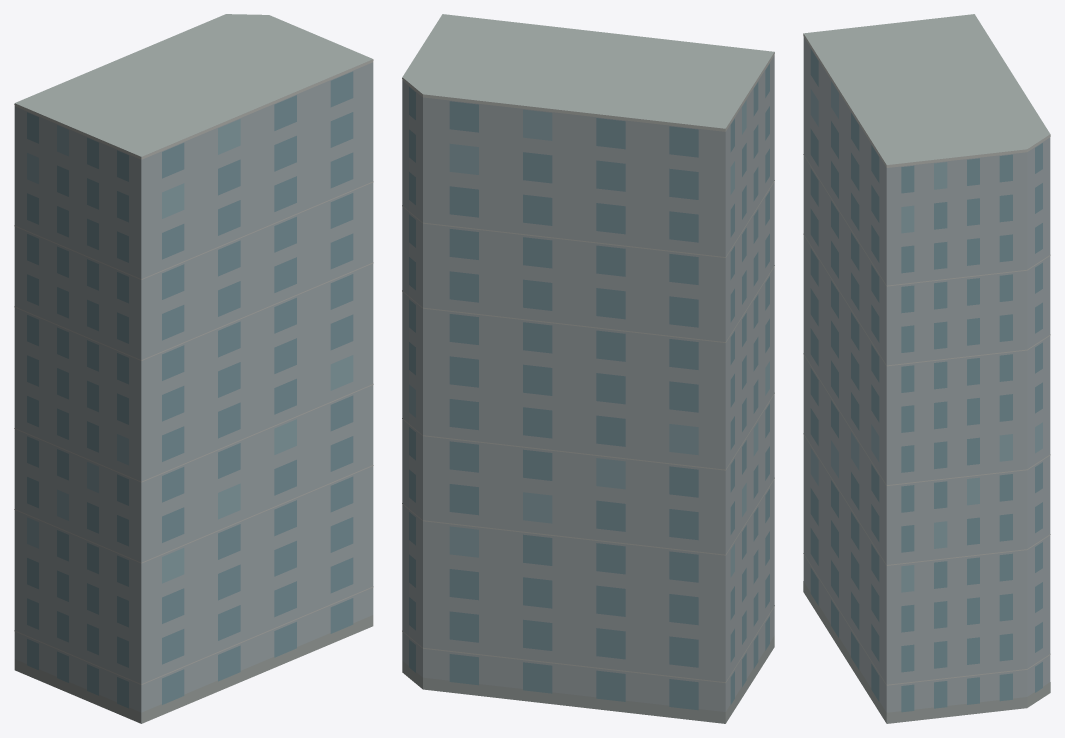
The model's file is residential-7f41c72b-1319-47f9-8617-d34bcc9cfc0c.glb.
3 renders of one model, left to right at view 1: azimuth 30°, elevation 25°; view 2: azimuth 150°, elevation 25°; view 3: azimuth 270°, elevation 25°, orthographic. The views are drawn at different scales.
Visible parts, largest first — view 1: residential-7f41c72b-1319-47f9-8617-d34bcc9cfc0c.tmp; view 2: residential-7f41c72b-1319-47f9-8617-d34bcc9cfc0c.tmp; view 3: residential-7f41c72b-1319-47f9-8617-d34bcc9cfc0c.tmp.
Boxes of the visible parts, x1=… form: residential-7f41c72b-1319-47f9-8617-d34bcc9cfc0c.tmp: x1=14, y1=14, x2=373, y2=723; residential-7f41c72b-1319-47f9-8617-d34bcc9cfc0c.tmp: x1=402, y1=14, x2=774, y2=723; residential-7f41c72b-1319-47f9-8617-d34bcc9cfc0c.tmp: x1=803, y1=14, x2=1050, y2=723.
Size of the model in its own units: 26.71 by 46 by 18.45.
